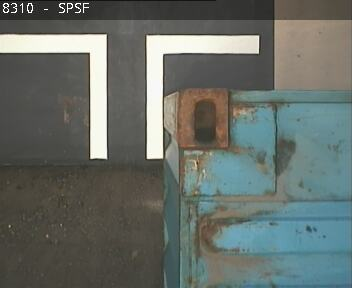groundmarker_1: (2, 33, 260, 159)
